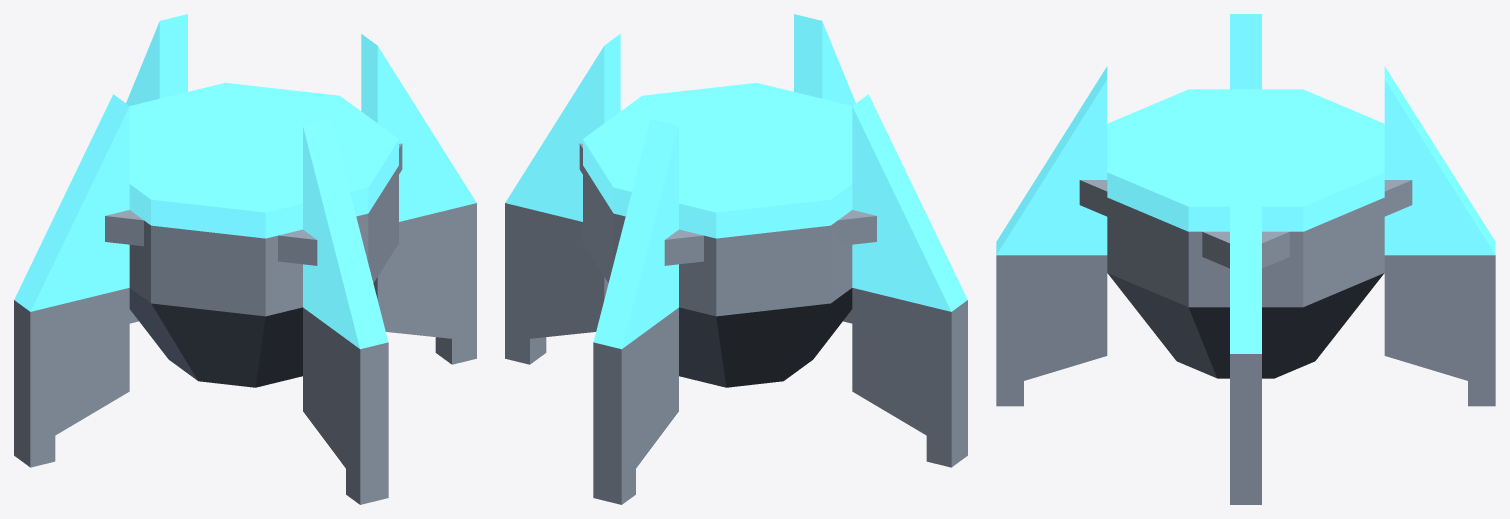
File: rocket_baseB.glb
3 views of the same model, side by side, from view 1: azimuth 30°, elevation 25°; view 2: azimuth 150°, elevation 25°; view 3: azimuth 270°, elevation 25° (orthographic). The views are drawn at different scales.
Parts seen in each view (by area): view 1: rocket_baseB; view 2: rocket_baseB; view 3: rocket_baseB.
Boxes of the visible parts, x1=… form: rocket_baseB: x1=14, y1=14, x2=476, y2=504; rocket_baseB: x1=505, y1=14, x2=967, y2=504; rocket_baseB: x1=996, y1=14, x2=1495, y2=504.
Size of the model in its own units: 1.8 by 1.3 by 1.8.
